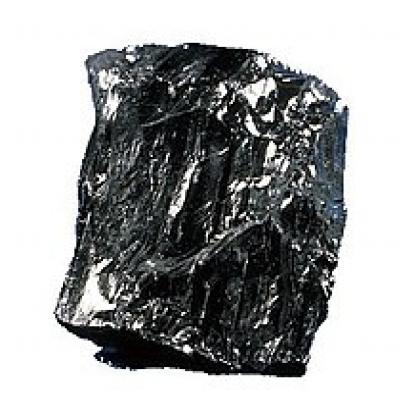Sedimentary_coal: (44, 23, 361, 392)
